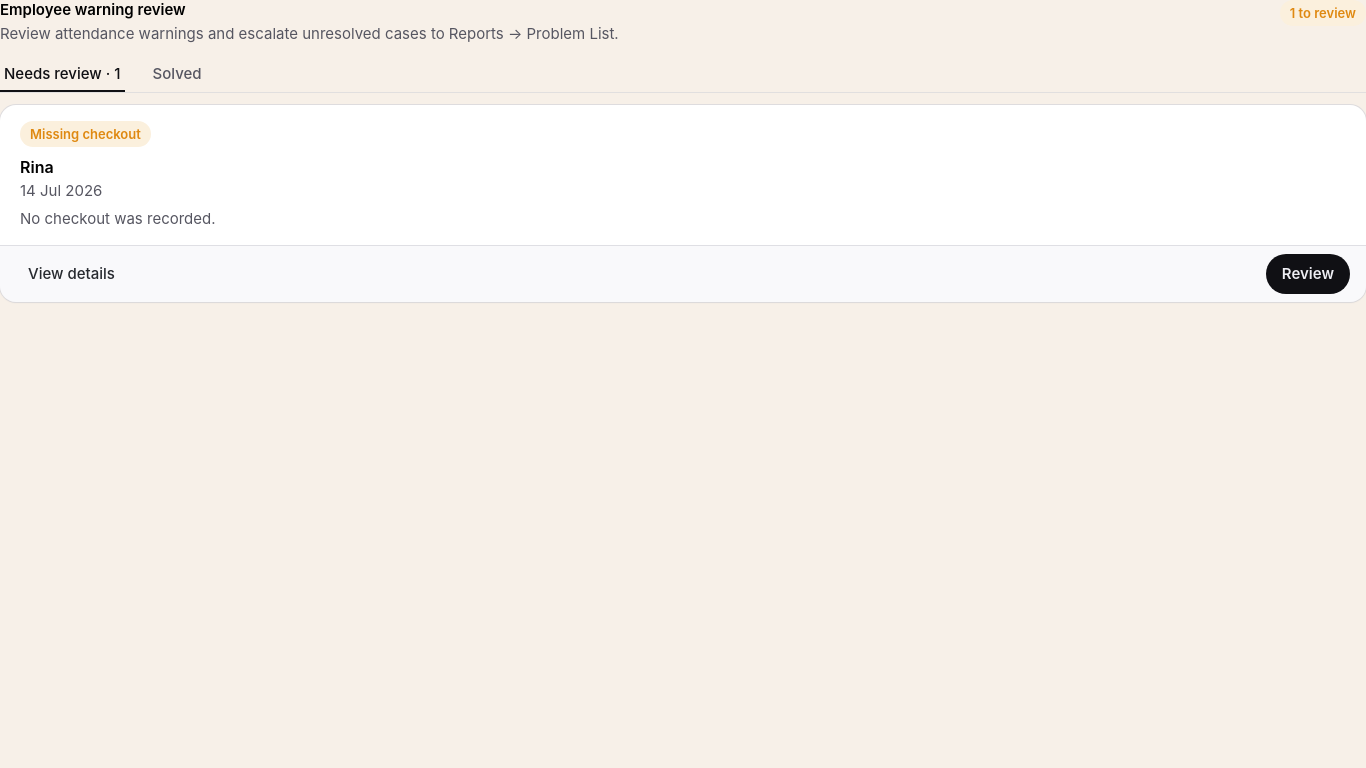
Scenario: employee warning review UI › shows yellow warning labels and only the two simple review choices
Click the button "Review" at (1308, 274), box [1266,254,1350,294]
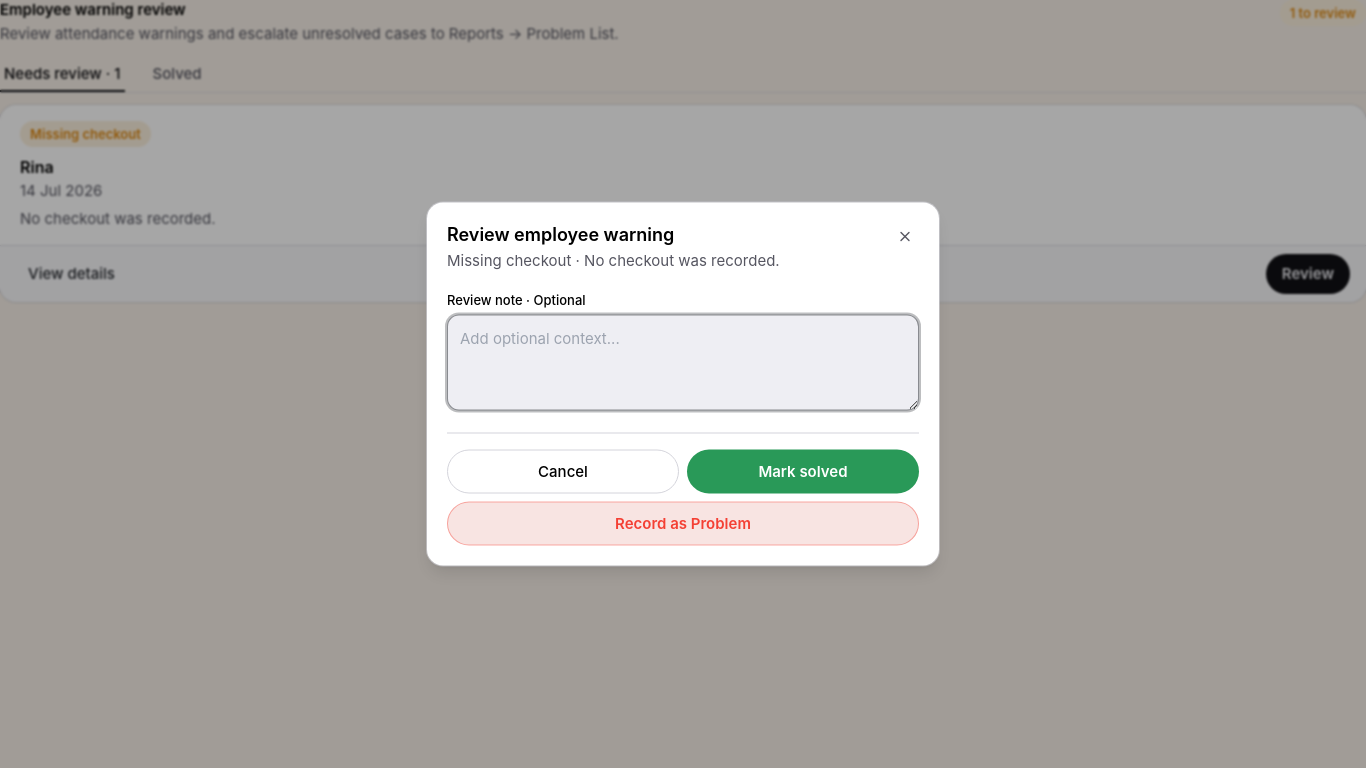
Check: the button "Mark solved" is shown, box [687,450,919,494]
Check: the button "Record as Problem" is shown, box [447,502,919,546]
